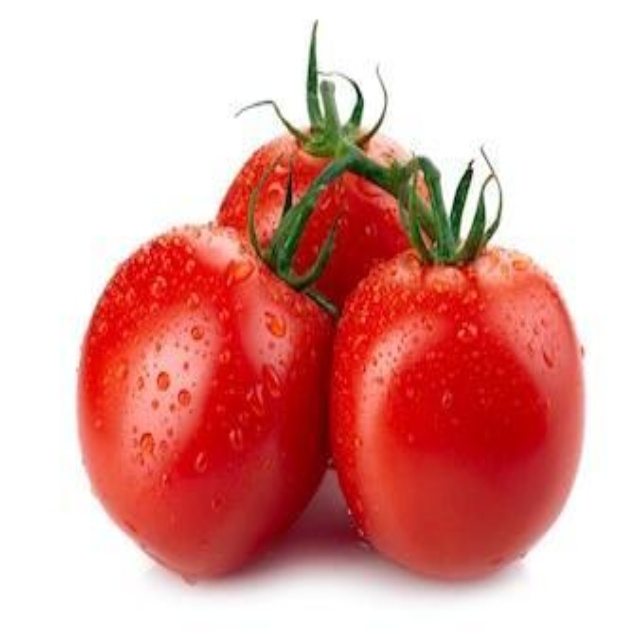tomato: (86, 231, 352, 601), (326, 242, 587, 586), (205, 95, 445, 322)
